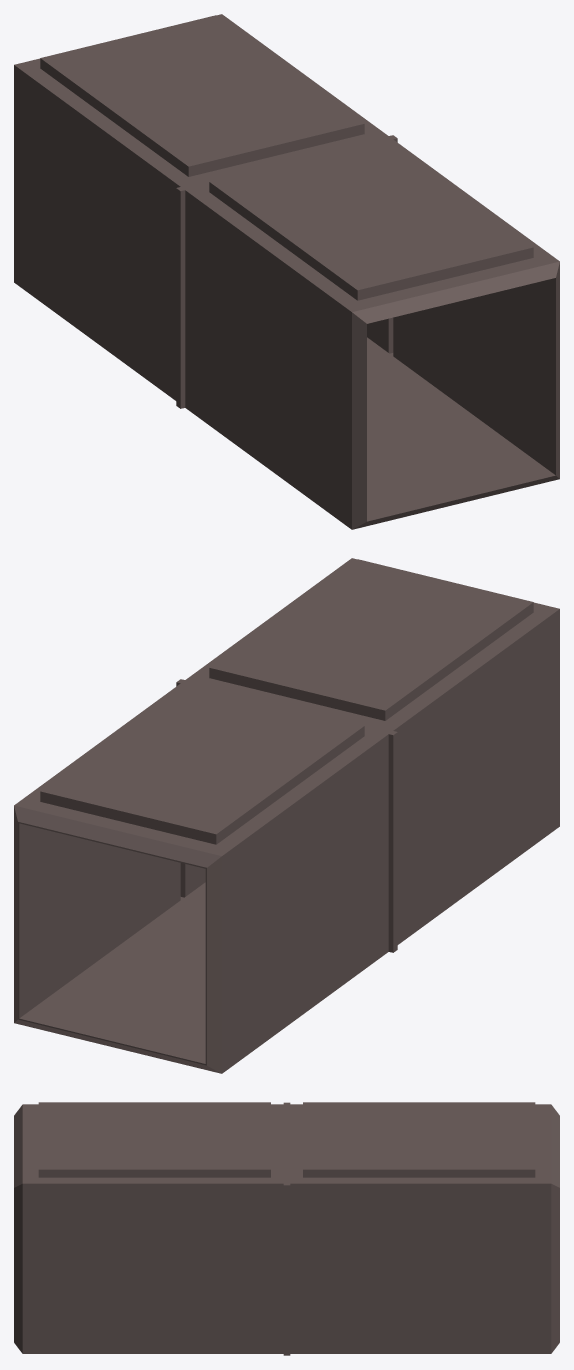
File: Vent_pipe_1.fbx
3 views of the same model, one above another, from view 1: azimuth 30°, elevation 25°; view 2: azimuth 150°, elevation 25°; view 3: azimuth 270°, elevation 25° (orthographic). The views are drawn at different scales.
Parts seen in each view (by area): view 1: Cube.001; view 2: Cube.001; view 3: Cube.001.
Boxes of the visible parts, left/top/right/bottom form: Cube.001: left=14, top=14, right=559, bottom=529; Cube.001: left=14, top=558, right=559, bottom=1073; Cube.001: left=14, top=1102, right=559, bottom=1355.
Bounding box in the file's own units: 144 × 144 × 400.
